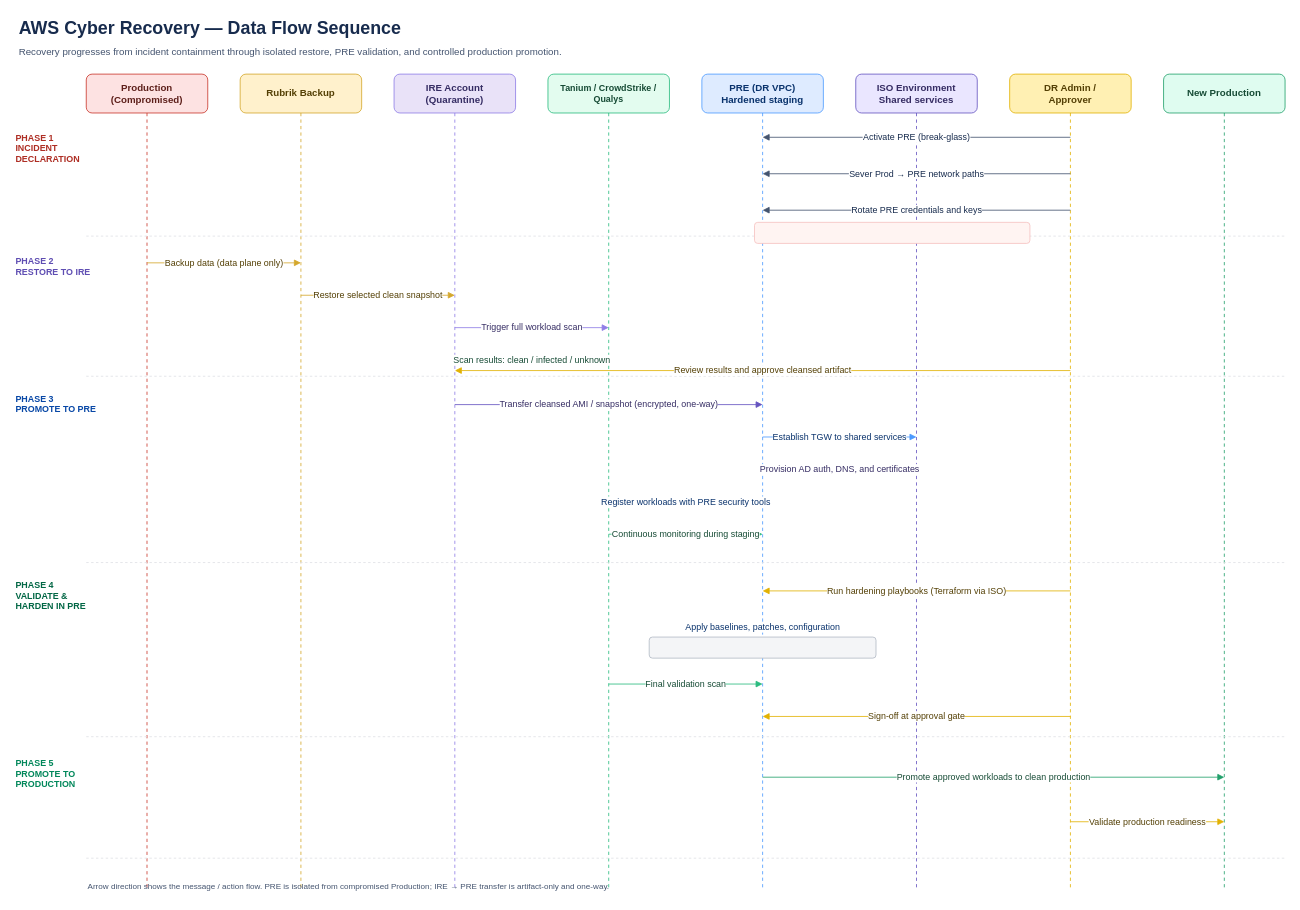
The diagram is 1300 pixels wide and 910 high, and some of its shapes have lost their labels. Each missing label, with the centre of its shape:
"Incident state: Production → PRE access remains blocked." goes at point (892, 232).
"PRE applies security baselines, patching, and configuration hardening" goes at point (762, 647).
